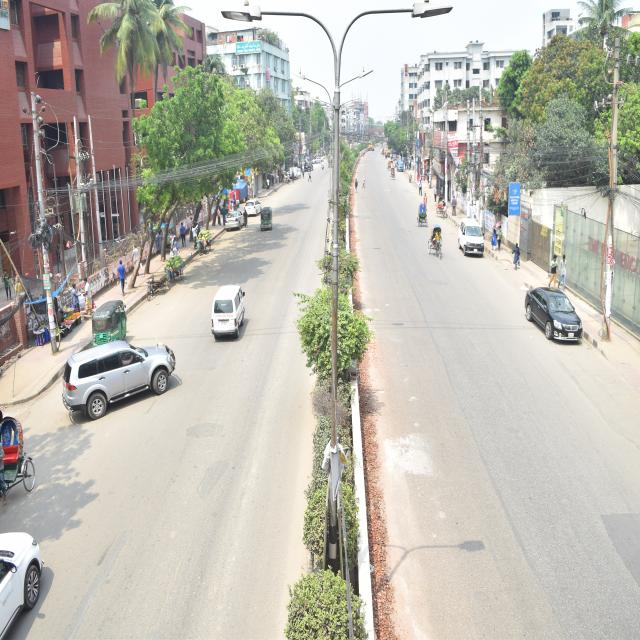car: (56, 340, 180, 419), (0, 527, 51, 640), (522, 284, 588, 350), (219, 207, 246, 234), (244, 195, 263, 219)
microbus: (209, 284, 249, 346), (454, 212, 486, 262)
